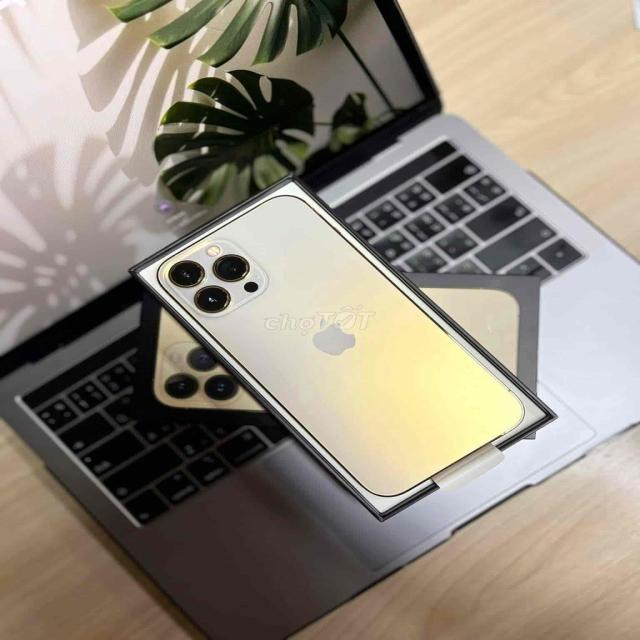gen_12_13: (152, 198, 532, 496)
